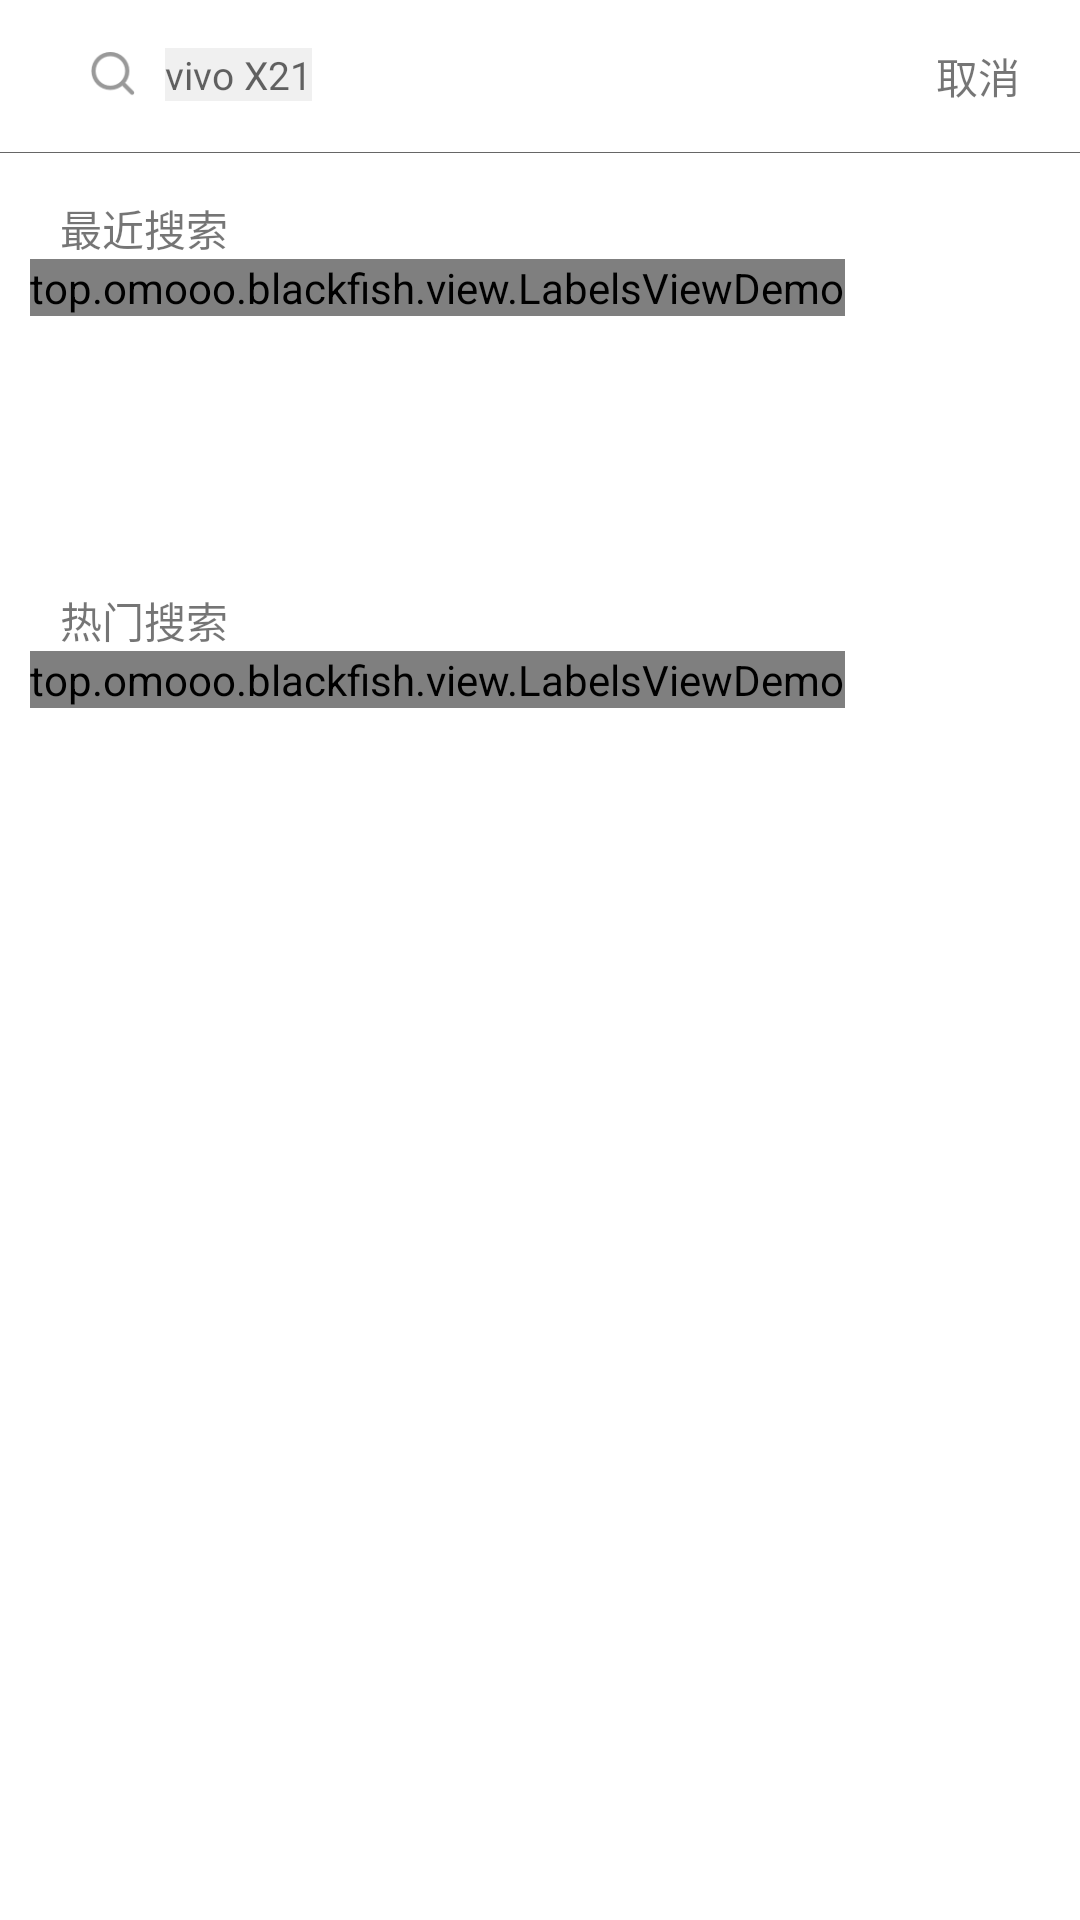

Icon bounding boxes for this 1080×1920 phone screenshot, format BBox(x1, y1, x2, y2):
search: BBox(91, 52, 134, 95)
